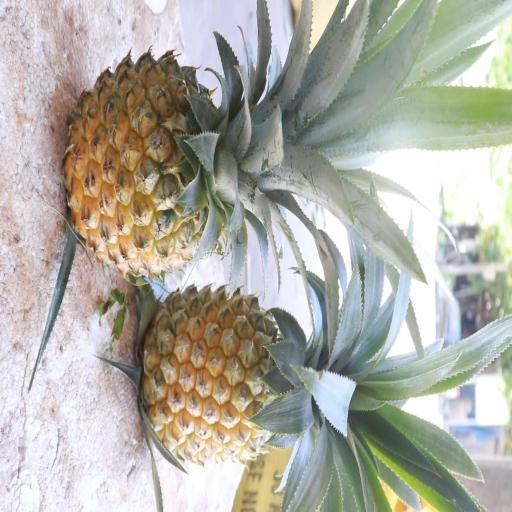Pineapple - v8 v1: (62, 39, 314, 285), (138, 281, 374, 475)
